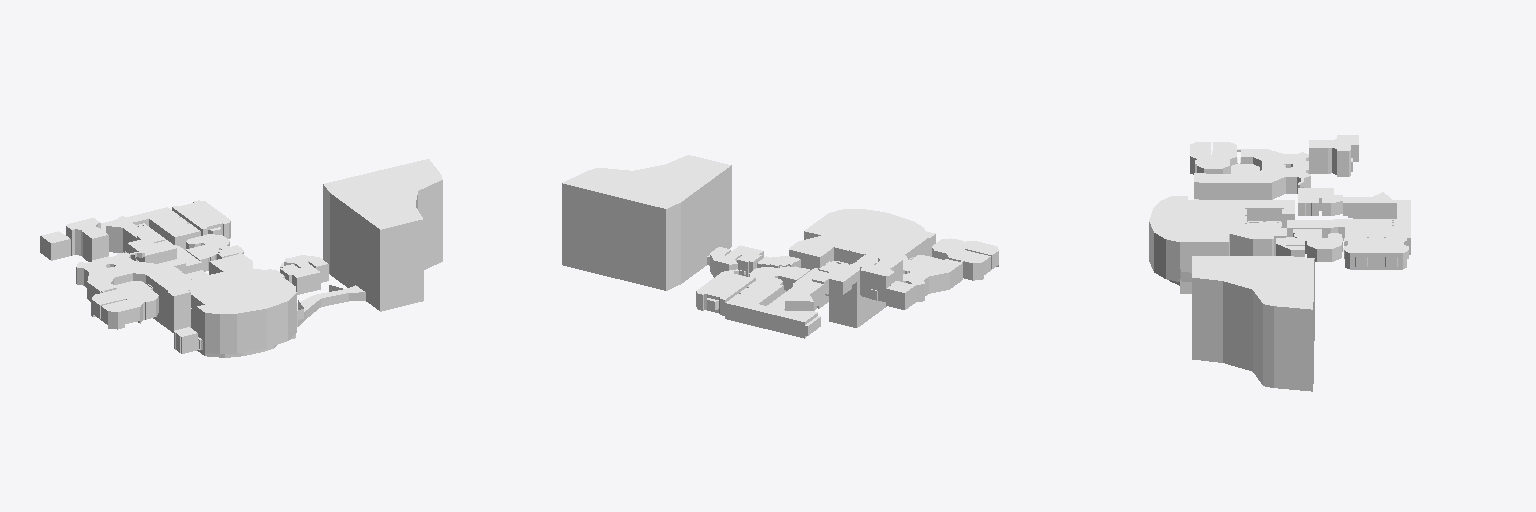
File: elevator_middle.obj
3 renders of one model, left to right at view 1: azimuth 30°, elevation 25°; view 2: azimuth 150°, elevation 25°; view 3: azimuth 270°, elevation 25°, orthographic.
Visible parts, largest first — view 1: MAP01; view 2: MAP01; view 3: MAP01.
Part boxes in pixels (bbox=[...]): MAP01: bbox=[40, 159, 442, 357]; MAP01: bbox=[562, 155, 998, 338]; MAP01: bbox=[1149, 135, 1410, 391].
Size of the model in its own units: 5888 by 1280 by 3520.